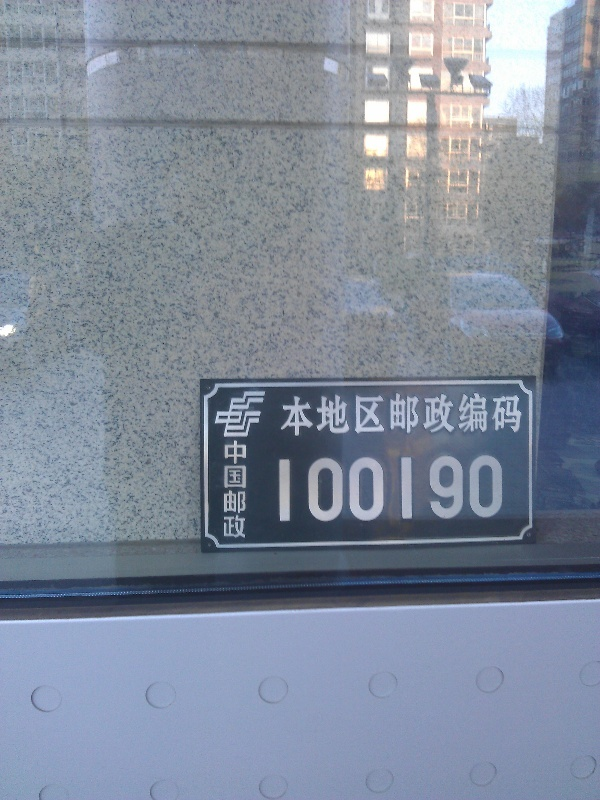text: (225, 438, 240, 542), (289, 452, 304, 524), (305, 452, 320, 524), (321, 452, 336, 524), (337, 452, 352, 524), (353, 452, 368, 524), (369, 452, 384, 524), (385, 452, 400, 524), (401, 452, 416, 524), (417, 452, 432, 524), (433, 452, 448, 524), (449, 452, 464, 524), (465, 452, 480, 524), (481, 452, 496, 524), (274, 452, 288, 524), (241, 438, 249, 542), (497, 452, 507, 524), (289, 394, 304, 437), (305, 394, 320, 437), (321, 394, 336, 437), (337, 394, 352, 437), (353, 394, 368, 437), (369, 394, 384, 437), (385, 394, 400, 437), (401, 394, 416, 437), (417, 394, 432, 437), (433, 394, 448, 437), (449, 394, 464, 437), (465, 394, 480, 437), (481, 394, 496, 437), (497, 394, 512, 437), (279, 394, 288, 437), (513, 394, 522, 437), (222, 438, 224, 542)
